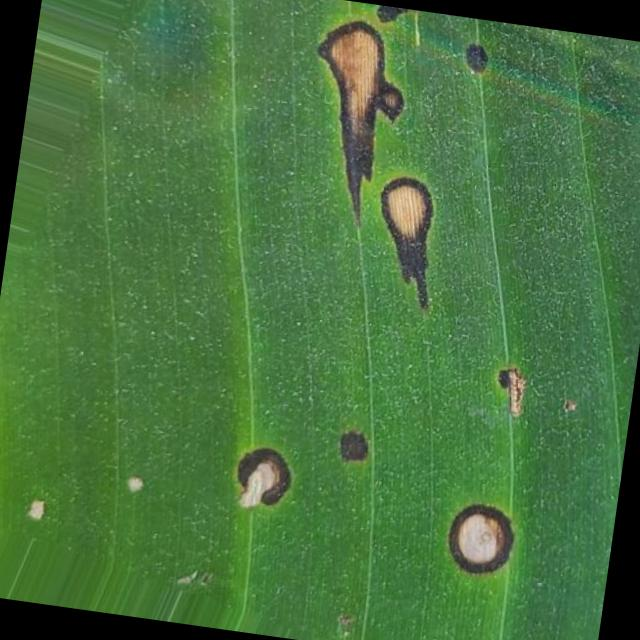Banana_Black_Sigatoka: (132, 378, 626, 622), (266, 0, 538, 307)
